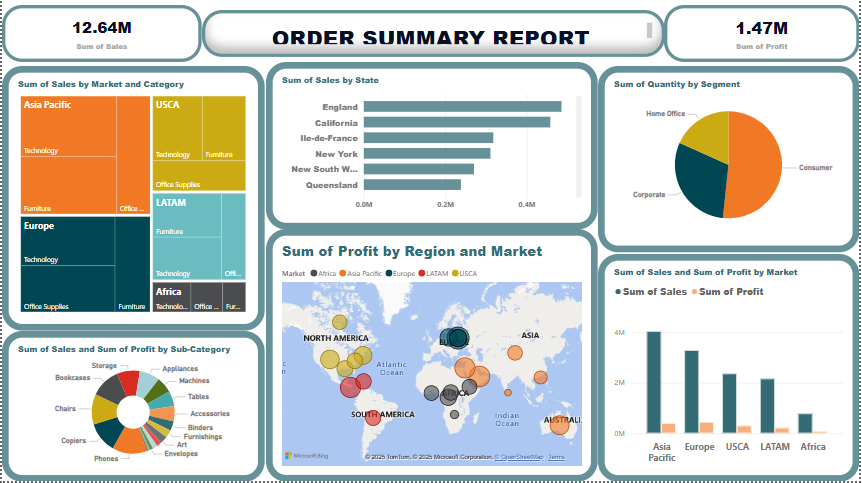

The page's visual inventory and layout, read from the dashboard file:
{"tool":"powerbi","page":{"name":"Page 1","canvas":[1280,720],"ordinal":0},"visuals":[{"type":"treemap","fields":{"Group":["Orders.Market"],"Values":["Sum(Orders.Sales)"],"Details":["Orders.Category"]},"box":[0,100,391.7,395],"z":0},{"type":"pieChart","fields":{"Category":["Orders.Segment"],"Y":["Sum(Orders.Quantity)"]},"box":[890,100,390,278.3],"z":1000},{"type":"donutChart","fields":{"Category":["Orders.Sub-Category"],"Y":["Sum(Orders.Sales)"]},"box":[0,495,391.7,225],"z":2000},{"type":"clusteredColumnChart","fields":{"Y":["Sum(Orders.Sales)","Sum(Orders.Profit)"],"Category":["Orders.Market"]},"box":[890,380,390,340],"z":3000},{"type":"map","fields":{"Size":["Sum(Orders.Profit)"],"Series":["Orders.Market"],"Category":["Orders.Region"]},"box":[393.3,343.3,495,376.7],"z":4000},{"type":"clusteredBarChart","fields":{"Category":["Orders.State"],"Y":["Sum(Orders.Sales)"]},"box":[393.3,93.3,495,250],"z":5000},{"type":"textbox","box":[295.2,15.8,691.2,69.1],"z":6000},{"type":"card","fields":{"Values":["Sum(Orders.Profit)"]},"box":[988.3,8.3,291.7,85],"z":8000},{"type":"card","fields":{"Values":["Sum(Orders.Sales)"]},"box":[0,8.3,298.3,85],"z":8500}]}

Visuals, with their boxes in screenshot pixels (x1, y1, x2, y2), scaled from the page's 1280x720 canvas onto the 862x483 screenshot:
treemap - Orders.Market x Sum(Orders.Sales): [0, 67, 264, 332]
pieChart - Orders.Segment x Sum(Orders.Quantity): [599, 67, 861, 254]
donutChart - Orders.Sub-Category x Sum(Orders.Sales): [0, 332, 264, 482]
clusteredColumnChart - Sum(Orders.Sales) x Sum(Orders.Profit): [599, 255, 861, 482]
map - Sum(Orders.Profit) x Orders.Market: [265, 230, 598, 482]
clusteredBarChart - Orders.State x Sum(Orders.Sales): [265, 63, 598, 230]
textbox: [199, 11, 664, 57]
card - Sum(Orders.Profit): [666, 6, 861, 63]
card - Sum(Orders.Sales): [0, 6, 201, 63]
